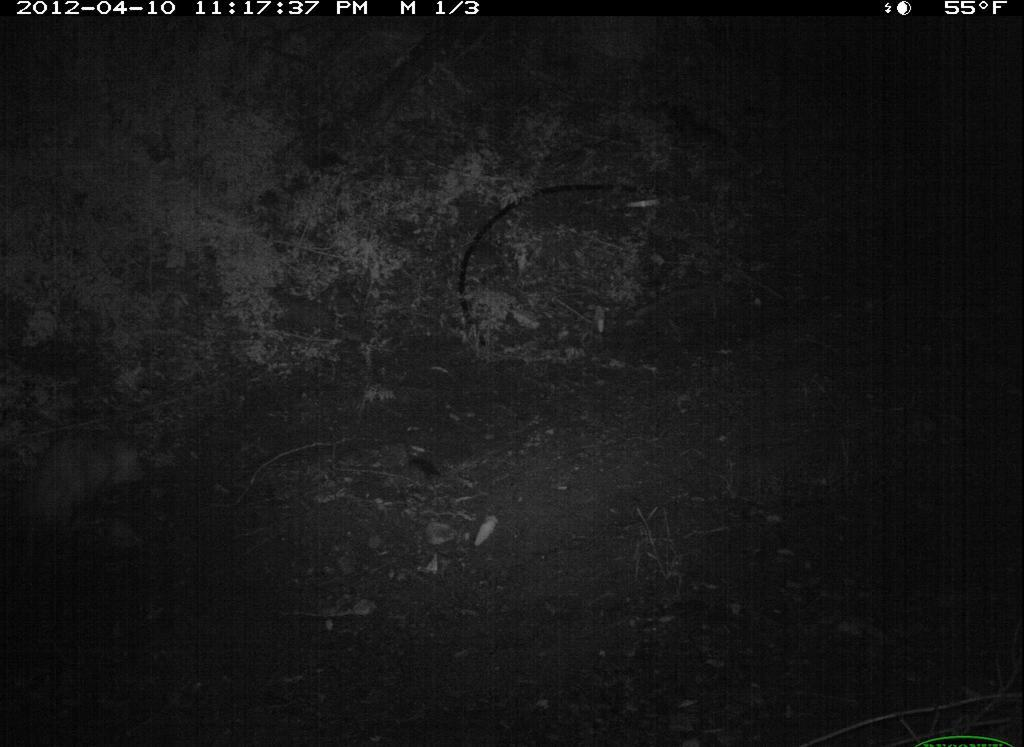opossum: (1, 422, 168, 571)
